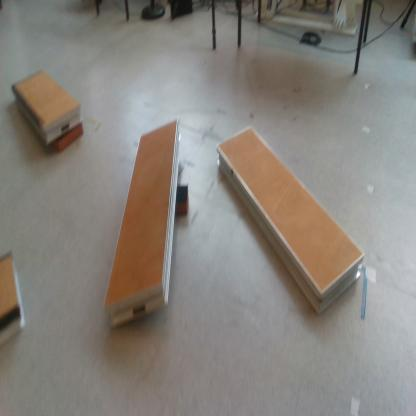Stairs: (218, 123, 368, 318), (103, 118, 182, 333), (14, 71, 83, 149), (1, 253, 26, 348)
